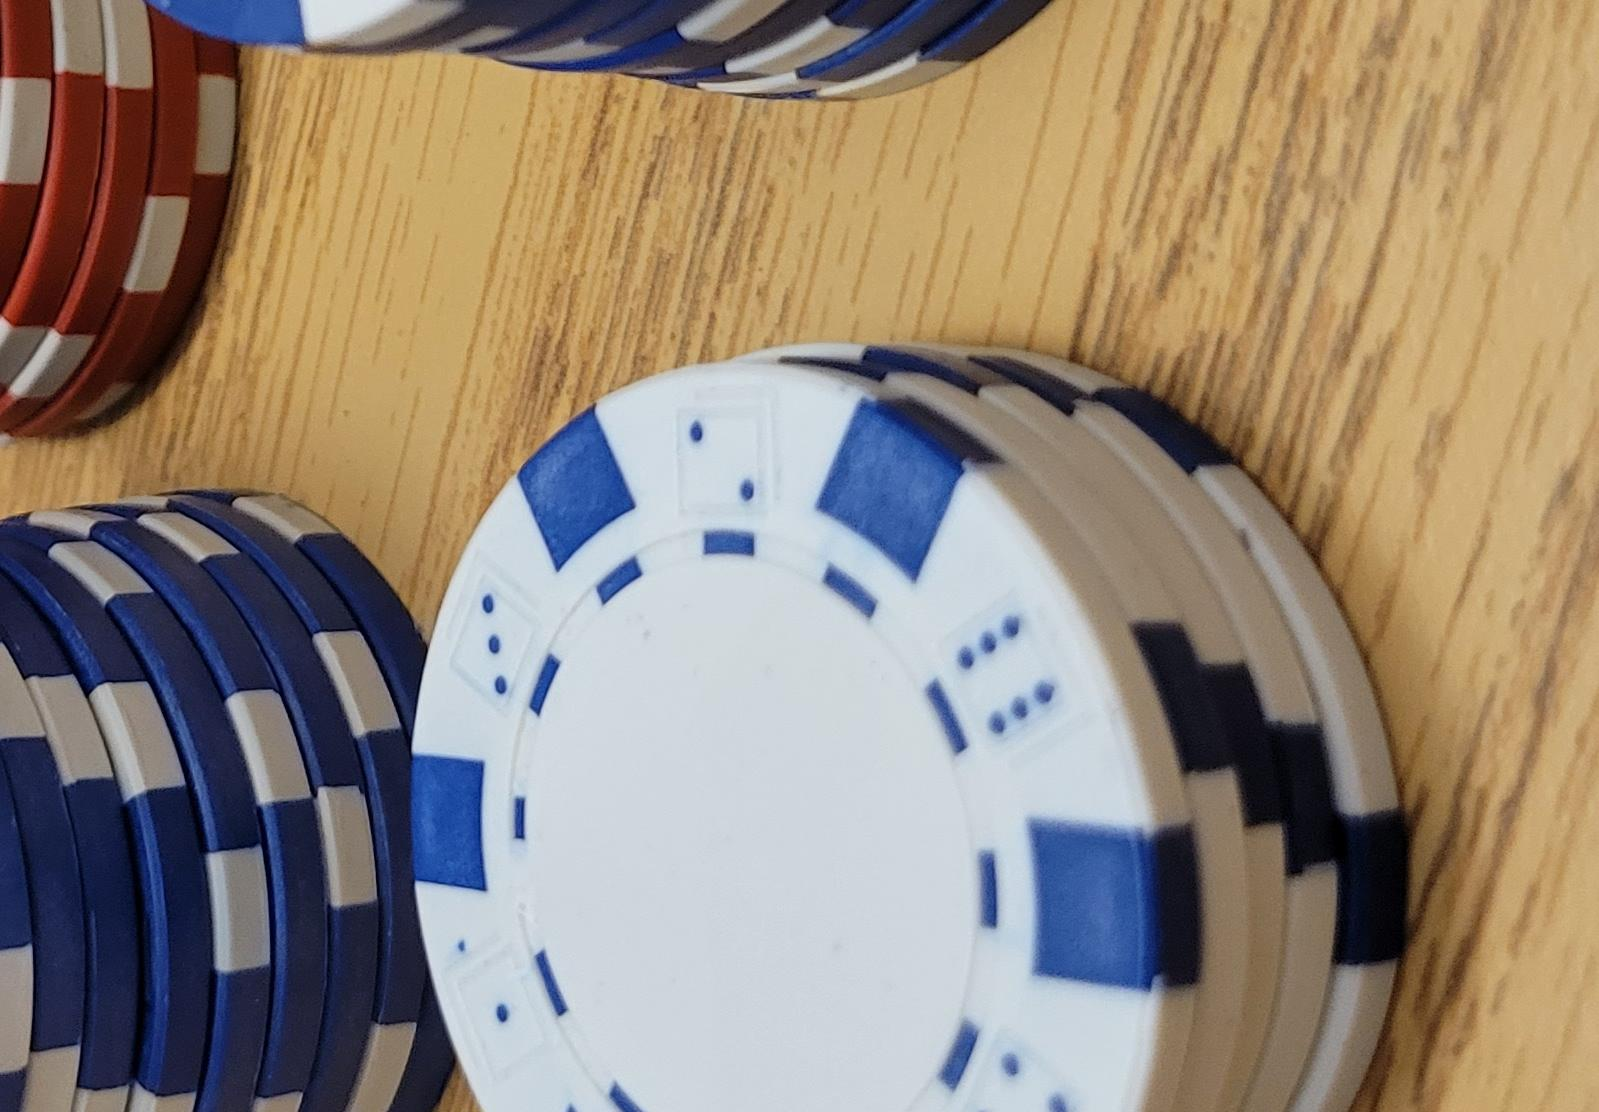Chip: (1, 452, 708, 1112)
